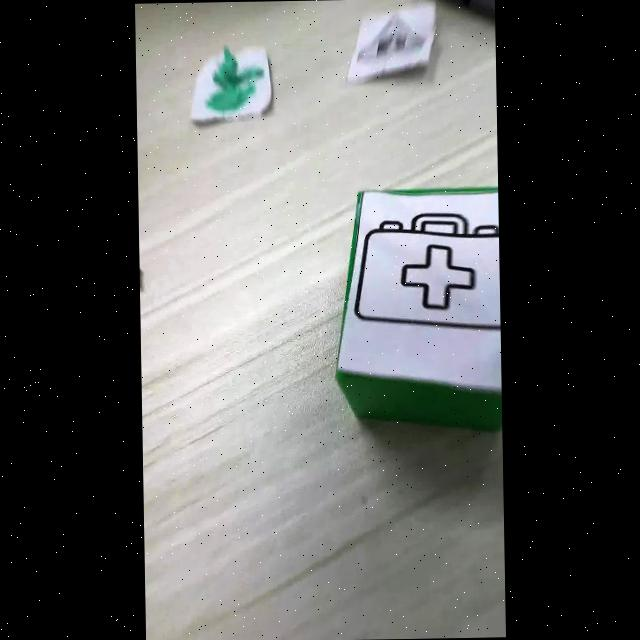Medkit: (354, 211, 500, 332)
